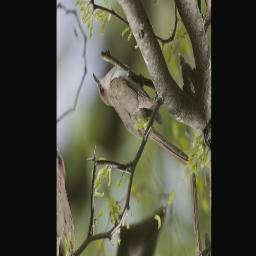Cuckoo: (92, 13, 191, 229)
